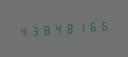eight: (65, 19, 76, 36), (41, 21, 52, 37)
four: (17, 23, 28, 39), (53, 20, 64, 36)
one: (77, 19, 88, 35)
six: (89, 18, 100, 34), (101, 17, 112, 33)
three: (29, 22, 40, 38)
